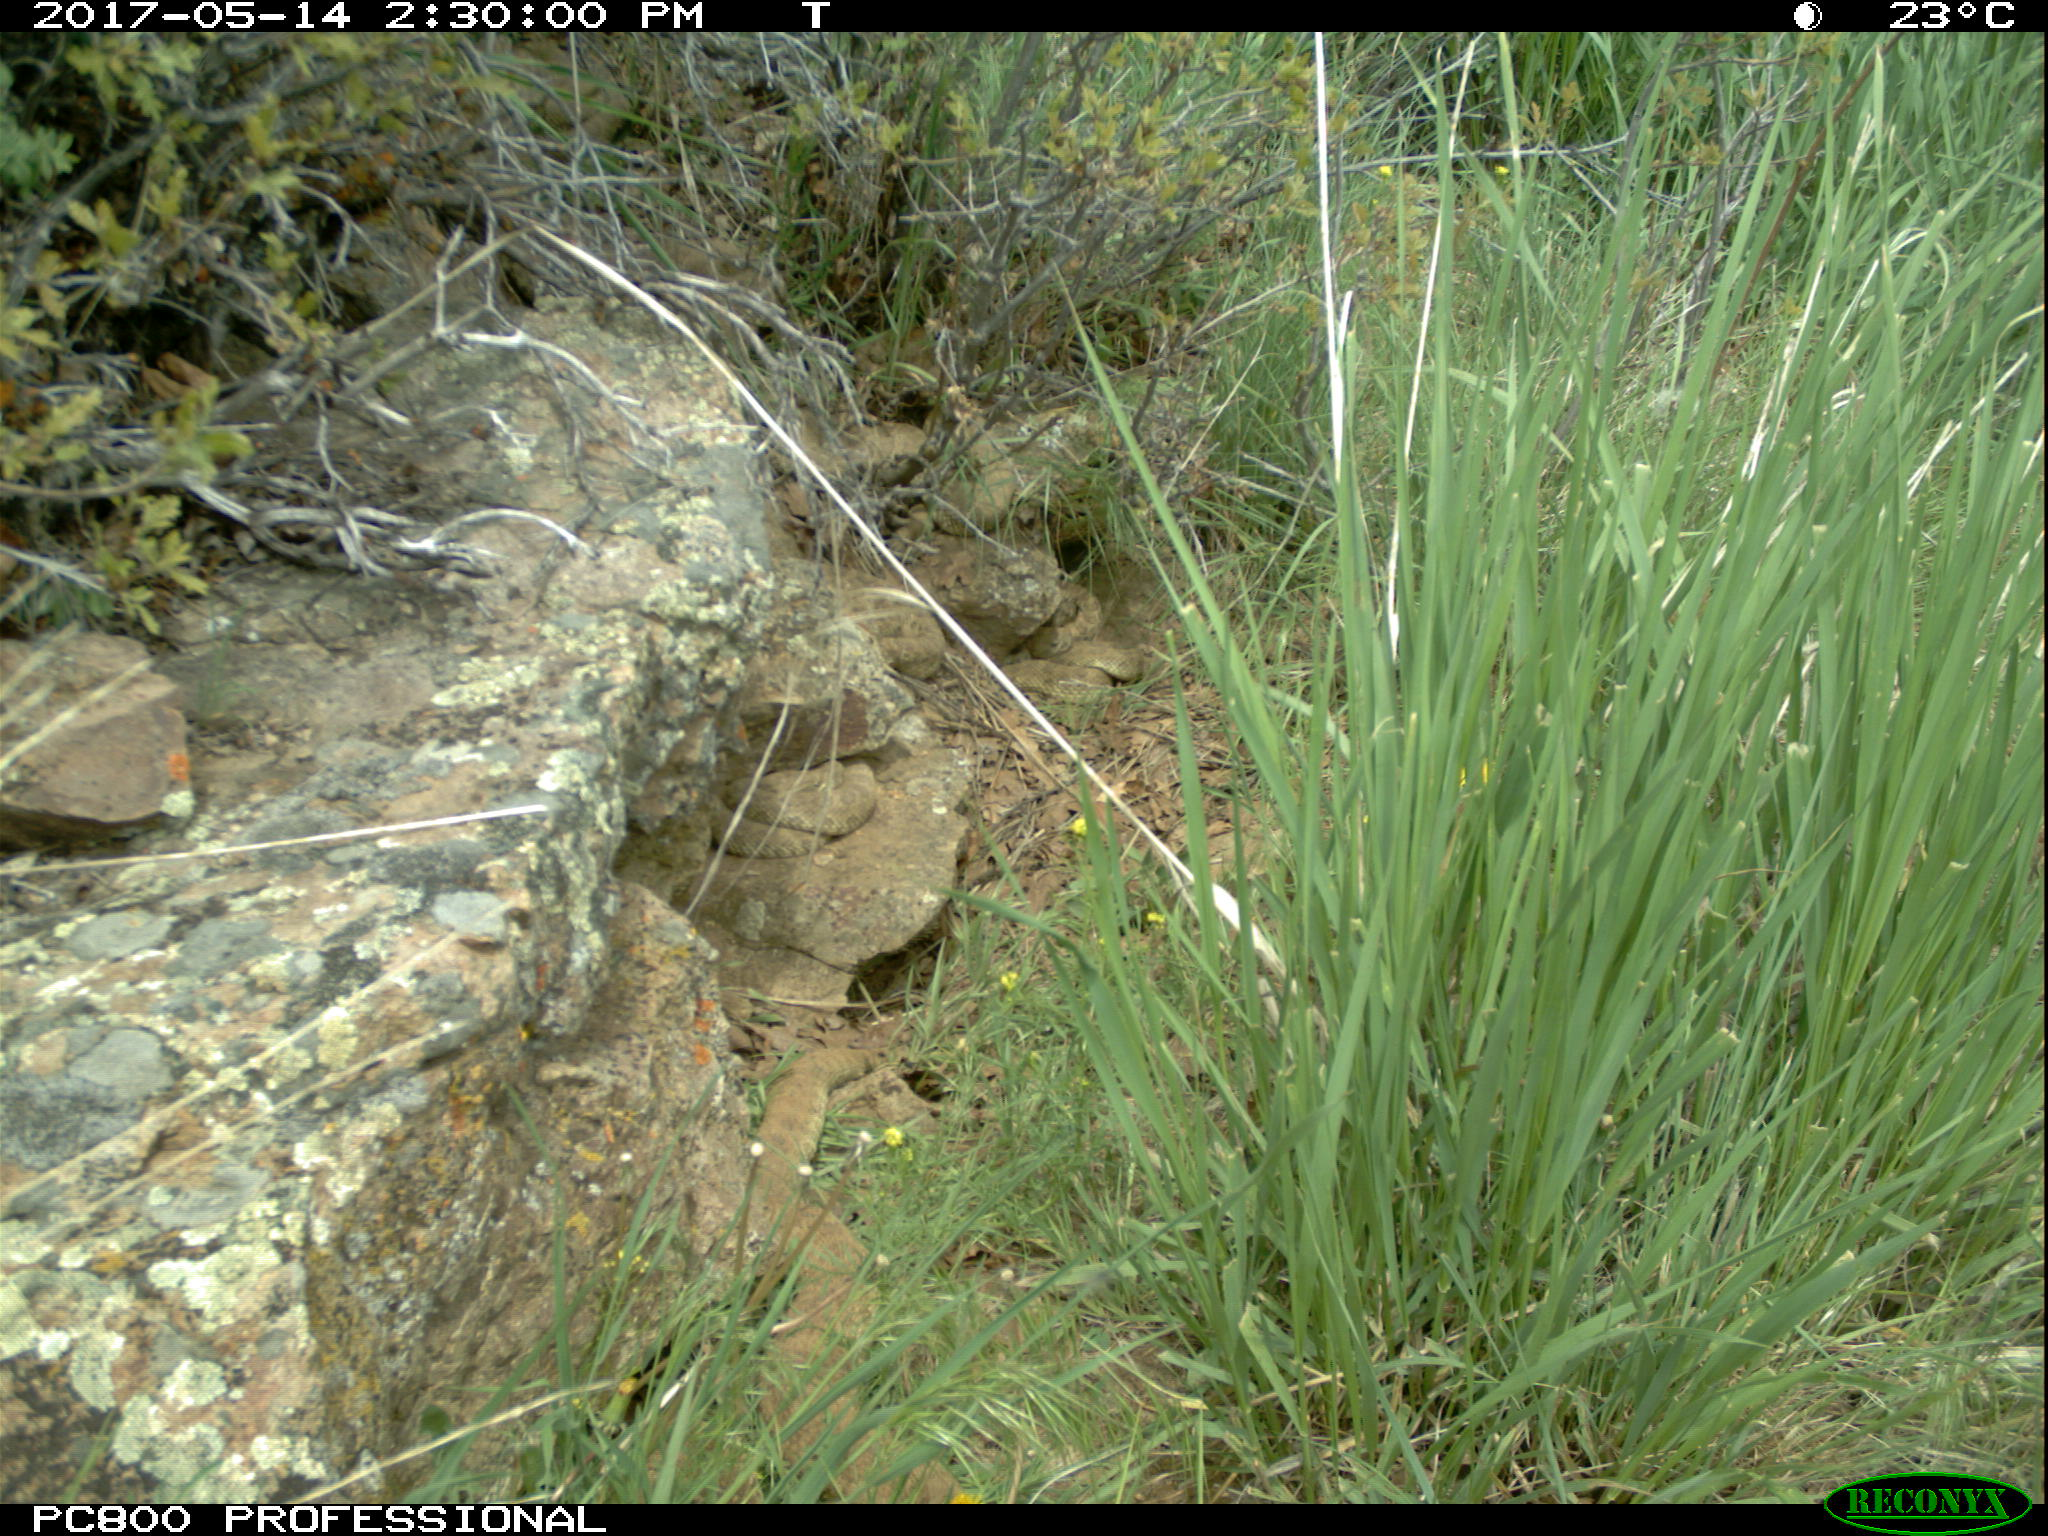snake: (742, 1042, 887, 1496), (706, 752, 880, 863), (1000, 629, 1151, 699), (872, 599, 947, 684), (1047, 587, 1114, 645)
